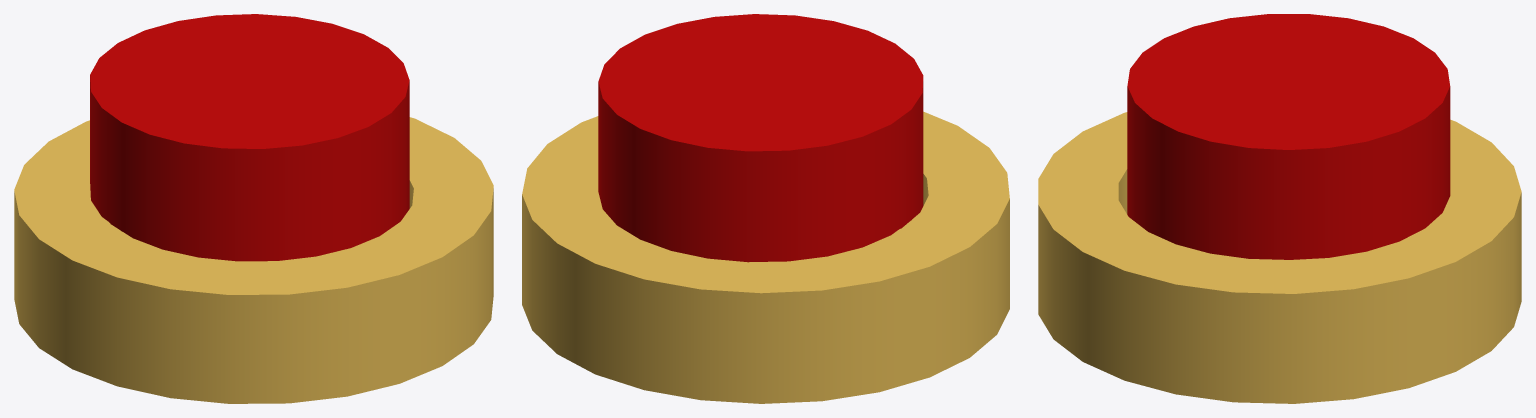
File: botann.FBX
3 views of the same model, side by side, from view 1: azimuth 30°, elevation 25°; view 2: azimuth 150°, elevation 25°; view 3: azimuth 270°, elevation 25° (orthographic).
Parts seen in each view (by area): view 1: Tube001, Cylinder001; view 2: Tube001, Cylinder001; view 3: Tube001, Cylinder001.
Boxes of the visible parts, x1=… form: Tube001: x1=14, y1=117, x2=493, y2=403; Cylinder001: x1=90, y1=14, x2=409, y2=261; Tube001: x1=522, y1=111, x2=1009, y2=403; Cylinder001: x1=598, y1=14, x2=923, y2=262; Tube001: x1=1038, y1=112, x2=1521, y2=403; Cylinder001: x1=1127, y1=14, x2=1450, y2=259.
Size of the model in its own units: 118 by 59.06 by 118.
